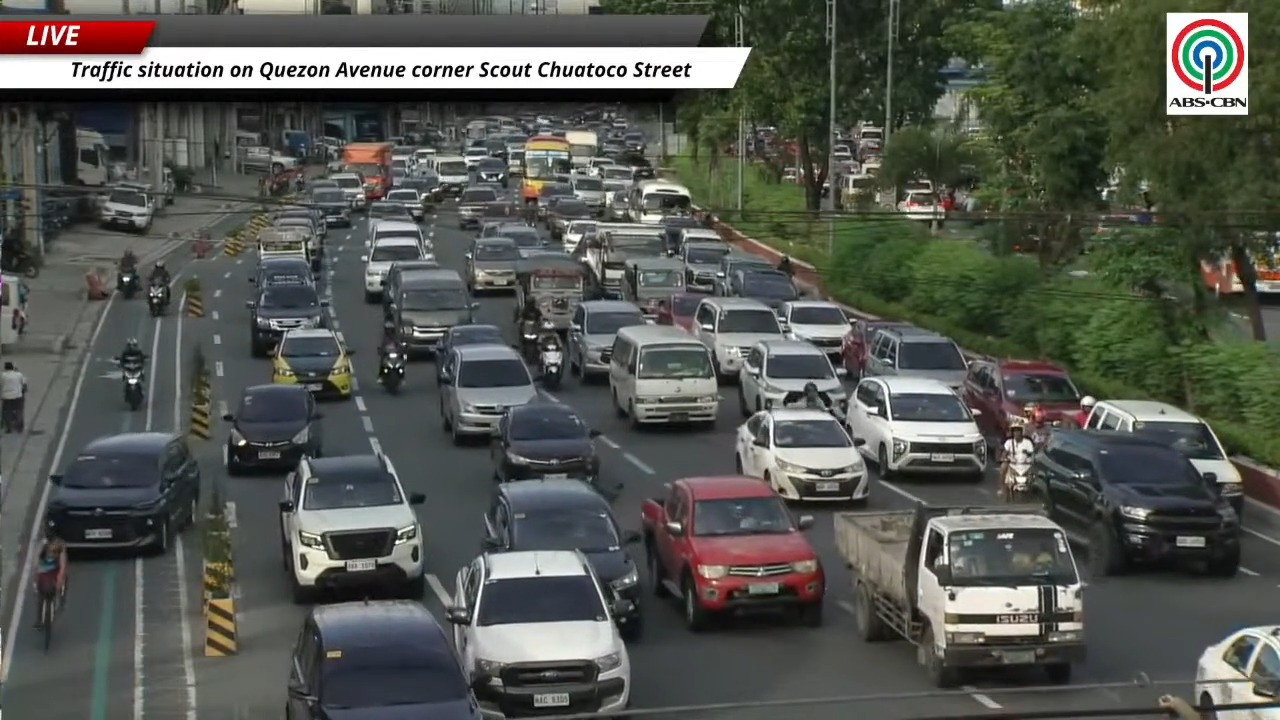bus: (520, 135, 571, 202), (75, 127, 109, 186), (1251, 233, 1279, 295)
car: (1030, 430, 1241, 577), (446, 550, 631, 716), (642, 475, 824, 631), (482, 479, 641, 640), (286, 600, 480, 719), (278, 453, 424, 603), (45, 432, 200, 553), (1085, 399, 1243, 515), (846, 376, 987, 480), (735, 409, 868, 502), (438, 345, 537, 444), (962, 358, 1081, 437), (223, 384, 322, 474), (491, 403, 600, 483), (738, 339, 846, 416), (388, 268, 478, 356), (1195, 625, 1279, 719), (693, 296, 783, 377), (864, 328, 967, 391), (566, 300, 646, 380), (246, 284, 327, 356), (272, 328, 353, 398), (779, 300, 850, 373), (841, 319, 915, 380), (361, 235, 427, 303), (381, 259, 438, 317), (270, 210, 324, 271), (465, 238, 520, 294), (365, 219, 433, 258), (712, 252, 773, 295), (679, 240, 730, 291), (736, 271, 799, 312), (100, 186, 155, 232), (659, 214, 719, 255), (435, 324, 506, 357), (663, 216, 721, 254), (366, 200, 415, 241), (249, 257, 313, 288), (547, 198, 594, 240), (270, 205, 326, 240), (458, 187, 500, 229), (497, 223, 548, 256), (310, 187, 351, 227), (896, 189, 944, 221), (328, 172, 367, 211), (397, 174, 439, 210), (383, 186, 425, 221), (571, 175, 605, 216), (537, 181, 573, 219), (669, 293, 703, 331), (561, 219, 597, 253), (480, 198, 522, 227), (474, 157, 508, 187), (476, 218, 527, 237), (602, 190, 630, 221), (463, 145, 491, 170)
motorcycle: (378, 350, 405, 394), (1002, 463, 1030, 503), (539, 343, 563, 389), (122, 365, 143, 411), (766, 391, 810, 409), (520, 320, 538, 361), (147, 284, 167, 316), (118, 271, 138, 299), (1029, 428, 1048, 448)
truck: (833, 504, 1085, 687), (342, 142, 392, 200), (564, 130, 598, 168)
